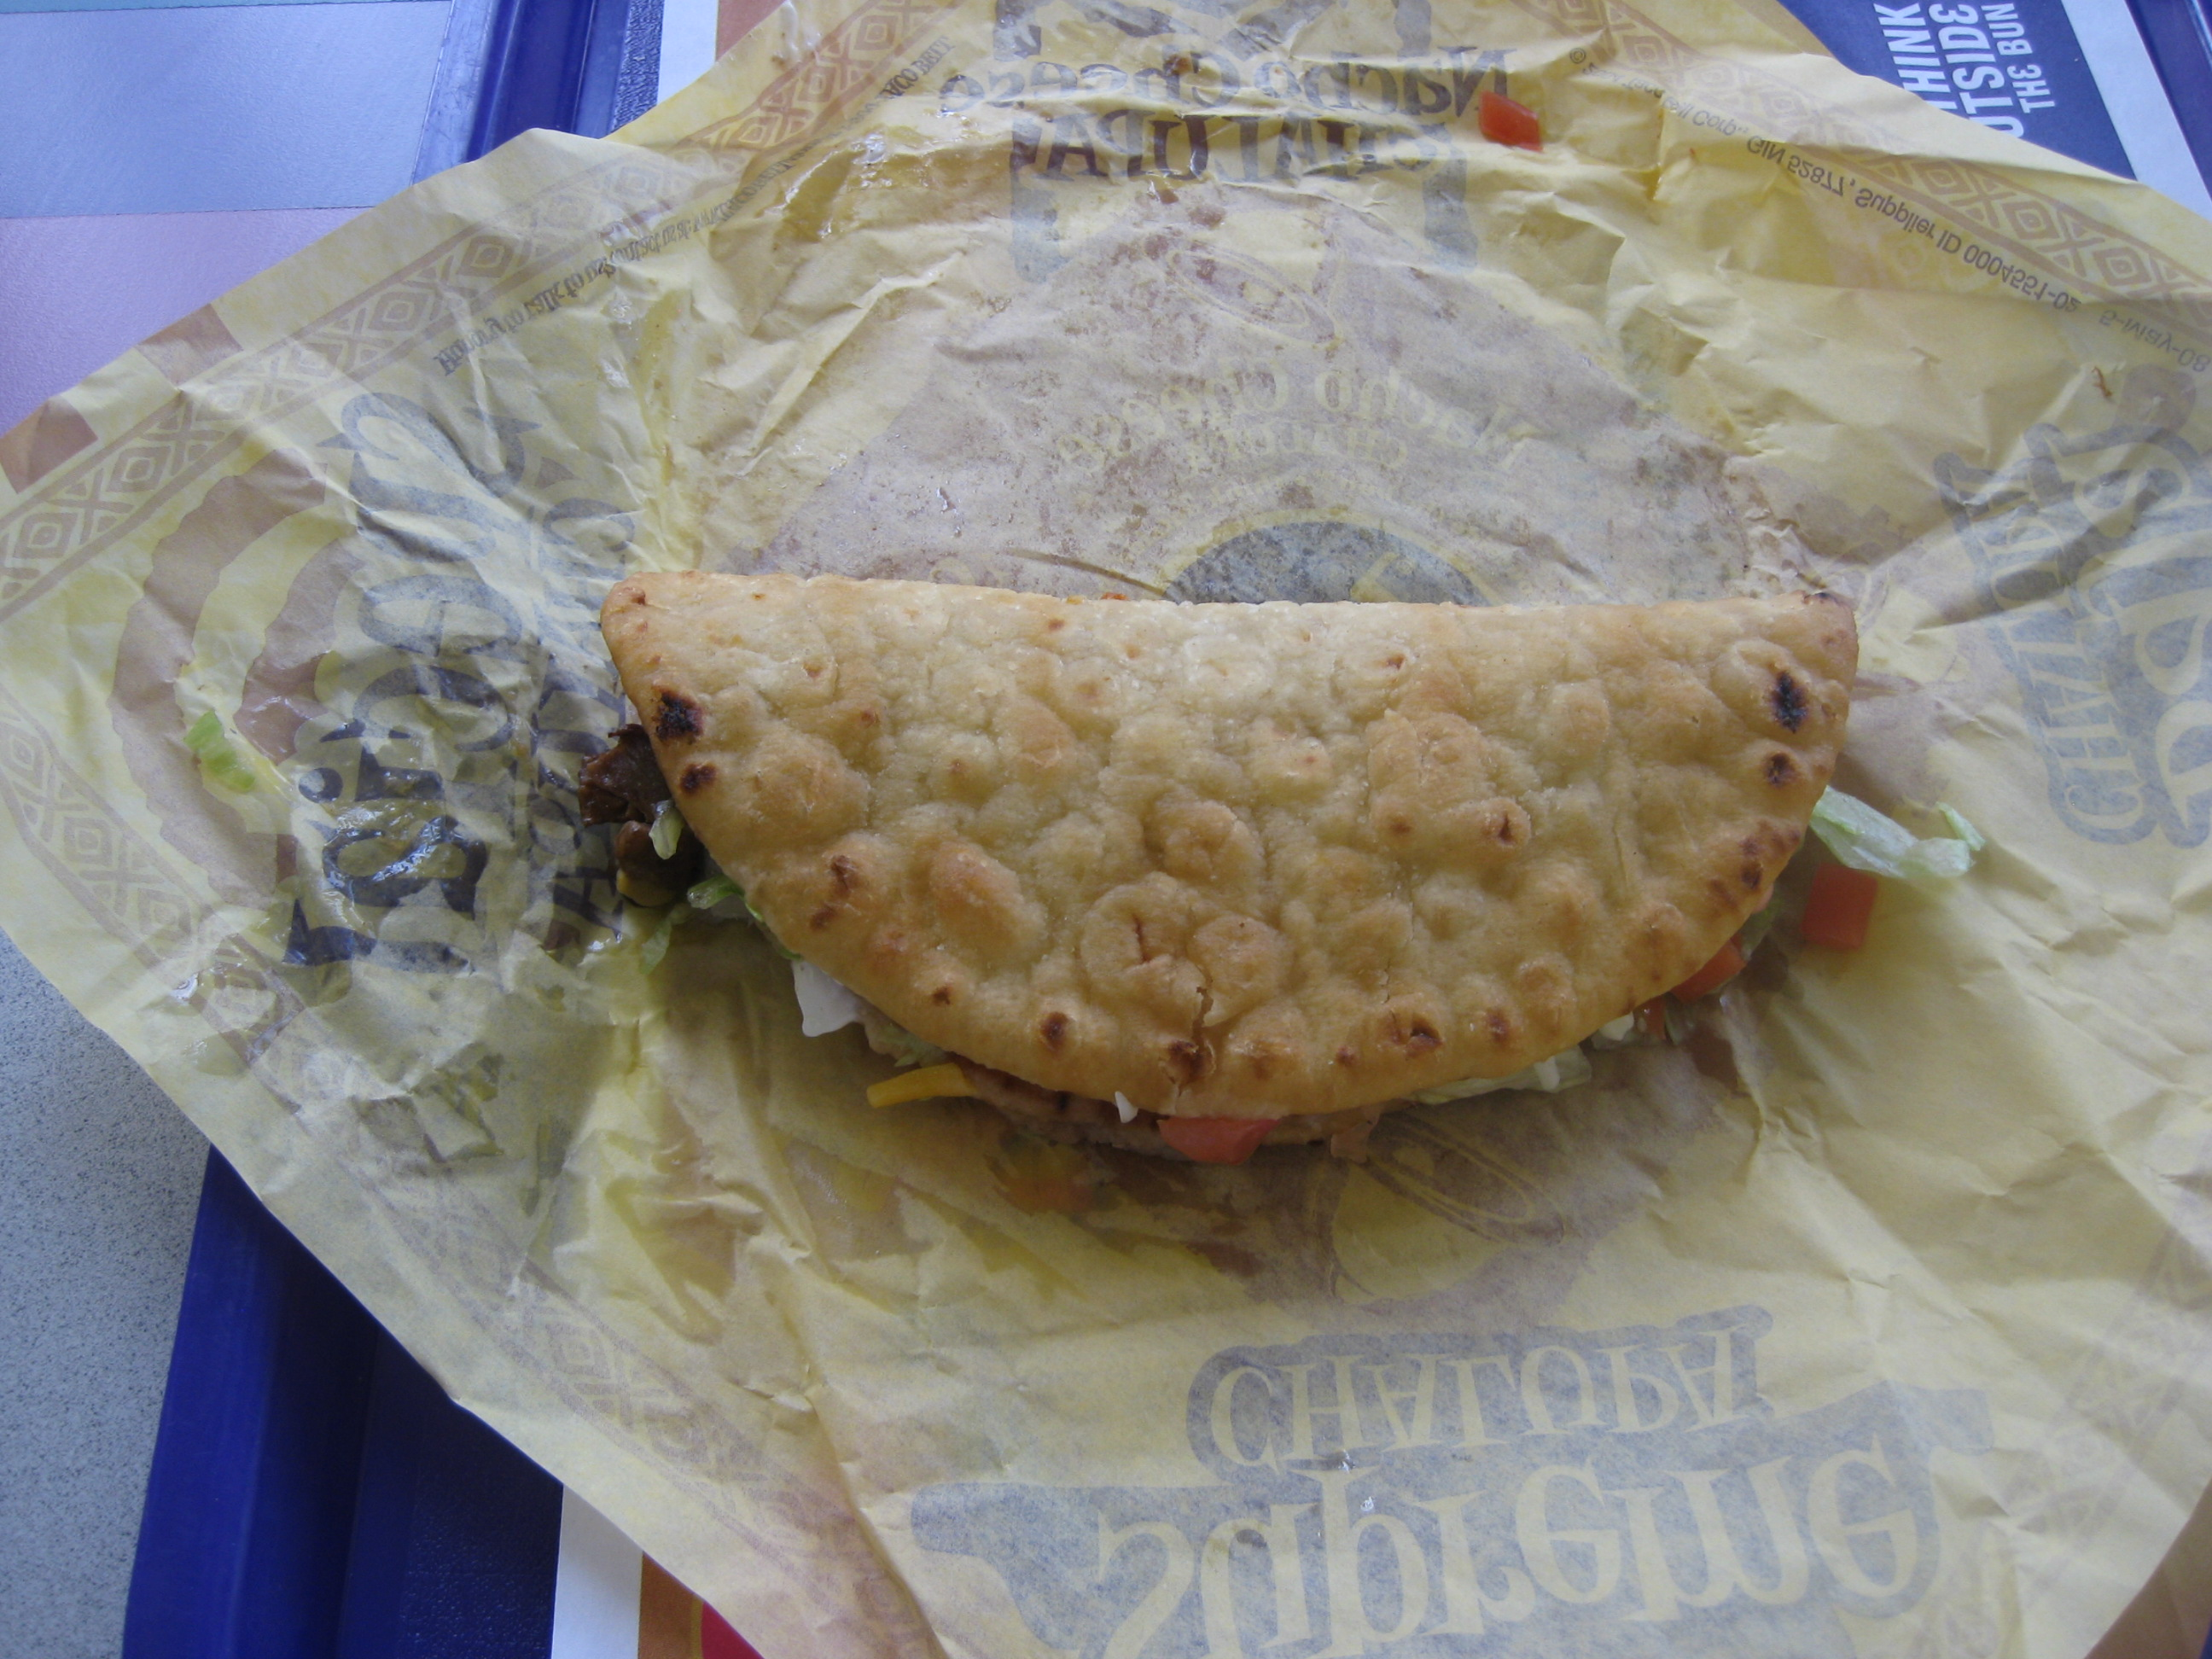taco: (556, 507, 1965, 1098)
